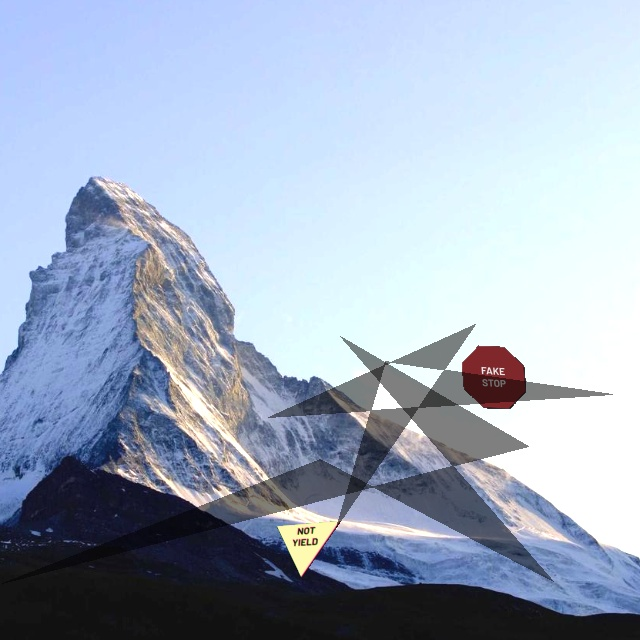FAKE_STOP: (461, 345, 526, 409)
NOT_YIELD: (276, 520, 341, 578)
